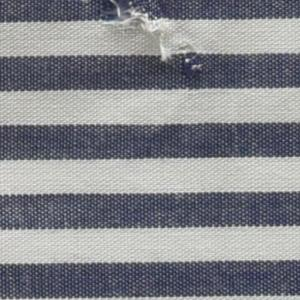Damage: (85, 1, 212, 89)
